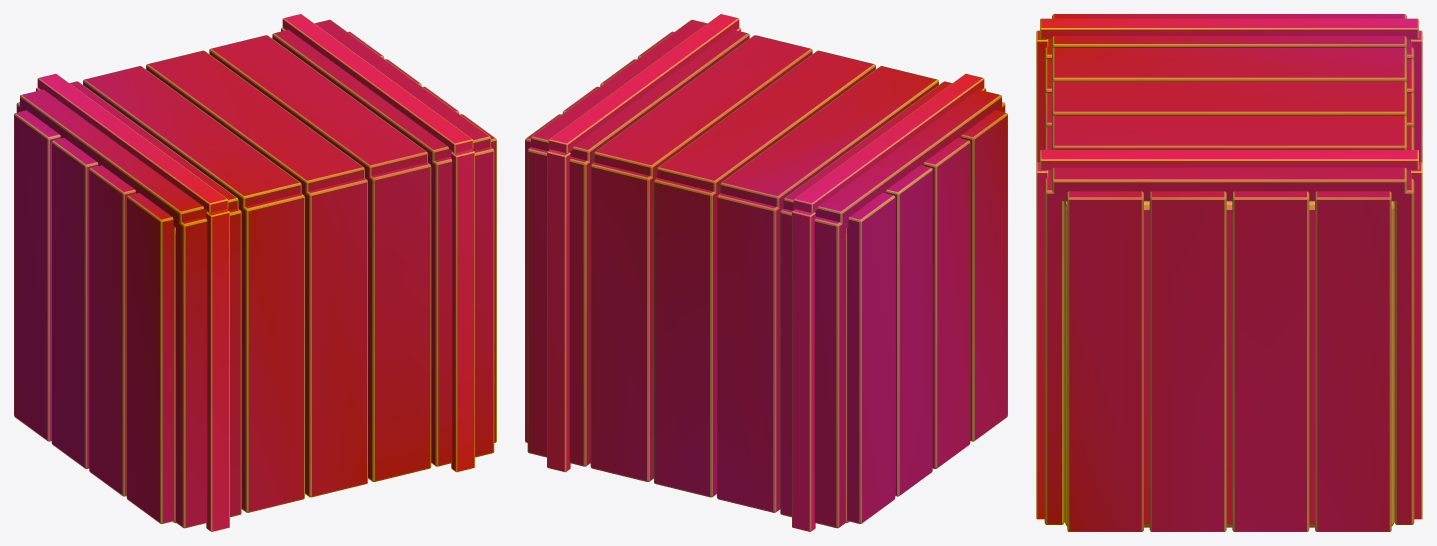
File: SM_Crate.fbx
The picture shows the model from 3 angles, left to right: view 1: azimuth 30°, elevation 25°; view 2: azimuth 150°, elevation 25°; view 3: azimuth 270°, elevation 25°; orthographic projection. The views are drawn at different scales.
Visible parts, largest first — view 1: SM_Crate; view 2: SM_Crate; view 3: SM_Crate.
Part boxes in pixels (bbox=[...]): SM_Crate: bbox=[14, 14, 496, 531]; SM_Crate: bbox=[525, 14, 1007, 531]; SM_Crate: bbox=[1036, 14, 1422, 531].
Size of what is drawn, in the model's own units: 79.5 by 88 by 81.75.
